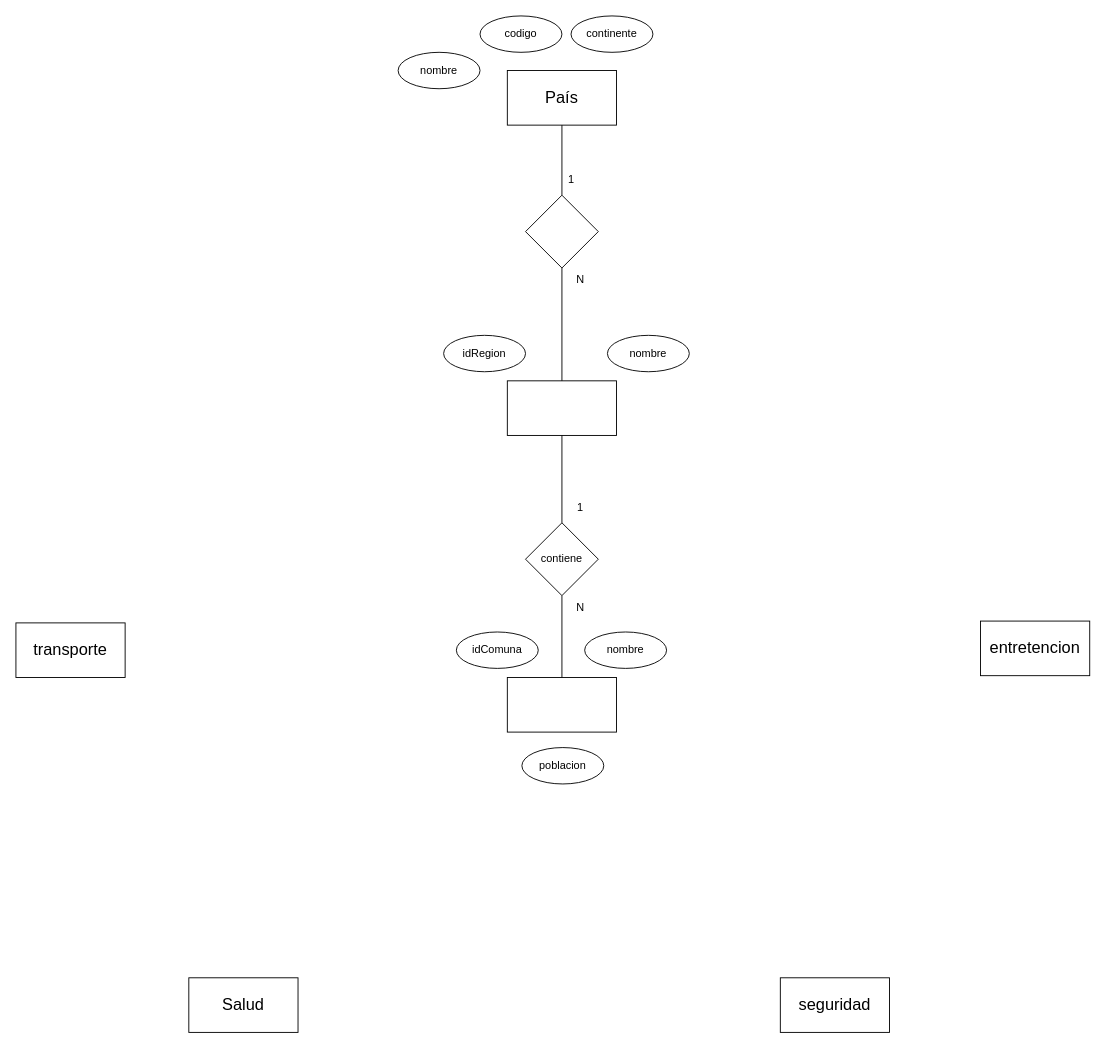
This 1106x1048 diagram has some shape labels left out. Here are the shapes that lost their labels. From the top down, the centre of each, then its label:
the point at 561,231: pertenece
the point at 561,407: region
the point at 561,704: comuna
